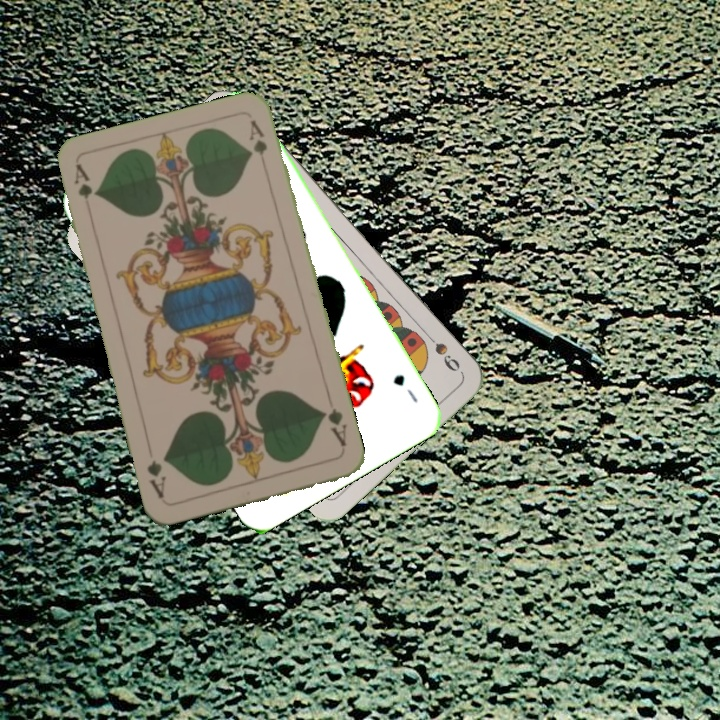GA: (317, 404, 350, 449), (69, 161, 95, 202)
GU: (389, 370, 421, 405)
S9: (419, 326, 463, 375)
